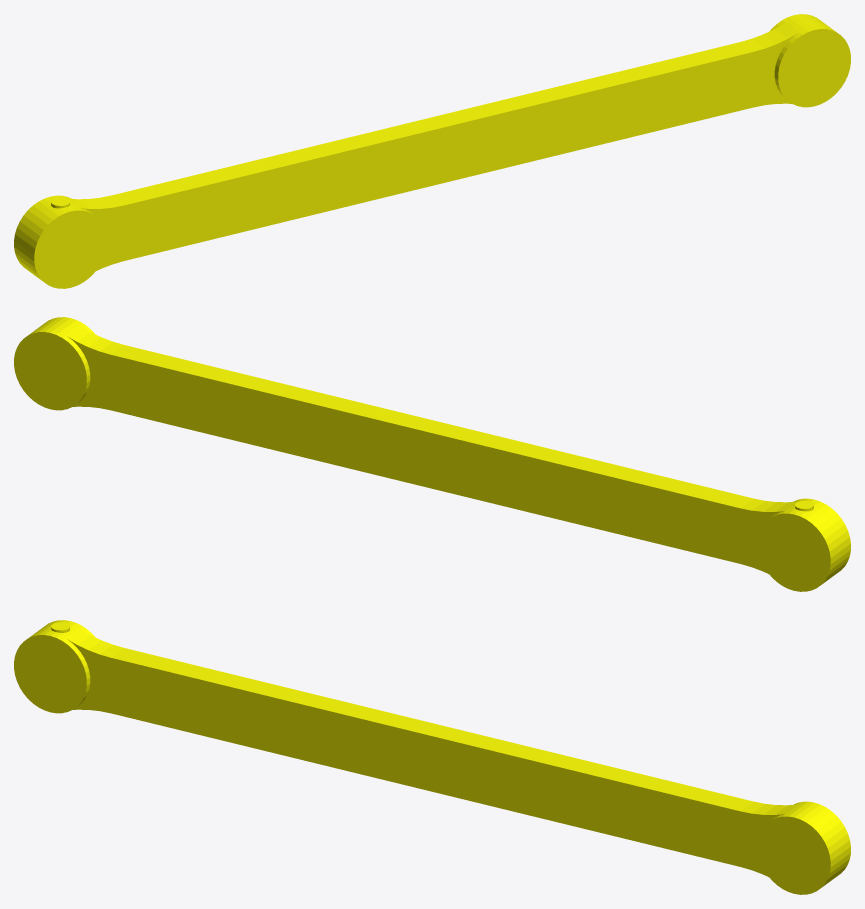
3 views of the same model, one above another, from view 1: azimuth 30°, elevation 25°; view 2: azimuth 150°, elevation 25°; view 3: azimuth 330°, elevation 25° (orthographic).
Visible parts, largest first — view 1: node; view 2: node; view 3: node.
Boxes of the visible parts, x1=… form: node: x1=14, y1=14, x2=850, y2=288; node: x1=14, y1=317, x2=850, y2=591; node: x1=14, y1=620, x2=850, y2=894.
Bounding box in the file's own units: 1230 × 116 × 104.
